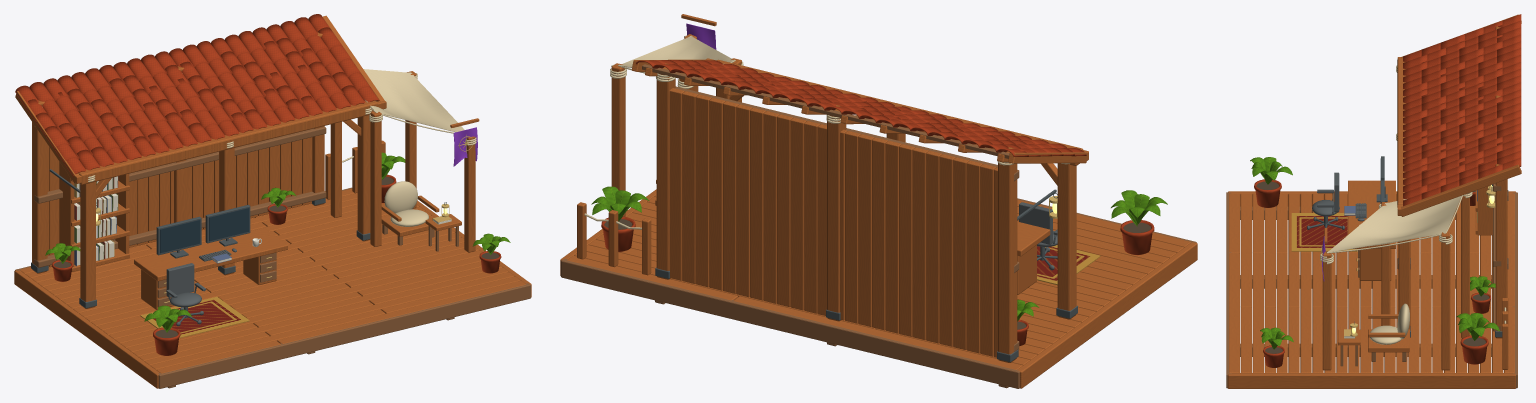
The model's file is studio-v1.glb.
3 views of the same model, side by side, from view 1: azimuth 30°, elevation 25°; view 2: azimuth 150°, elevation 25°; view 3: azimuth 270°, elevation 25° (orthographic). The views are drawn at different scales.
Parts seen in each view (by area): view 1: Studio_Deck_Fascia_-3.97, Studio_Front_Open_Eave_Beam, Studio_Veranda_Cream_Sagged_Awning, Studio_Desk_Crafted_Notebook_Worksurface, Studio_Deck_Side_Rim_-5.97, Studio_Shell_Post_0_3.6, Studio_Shell_Post_0_0.9, Studio_Backwall_Crafted_Crossbeam_2.3, Studio_Interior_Soft_Ornamental_Rug, Studio_Shell_Post_2_0.9, Studio_Deck_Plank_02_1, Studio_Veranda_Awning_Corner_Pillar_3 (+73 smaller); view 2: Studio_Deck_Fascia_3.97, Studio_Deck_Side_Rim_-5.97, Studio_Shell_Post_0_3.6, Studio_Shell_Post_0_0.9, Studio_Backwall_Weathered_Board_15, Studio_Backwall_Weathered_Board_06, Studio_Backwall_Weathered_Board_22, Studio_Backwall_Weathered_Board_02, Studio_Backwall_Weathered_Board_04, Studio_Shell_Post_2_3.6, Studio_Backwall_Weathered_Board_08, Studio_Backwall_Weathered_Board_07 (+42 smaller); view 3: Studio_Deck_Side_Rim_5.97, Studio_Veranda_Cream_Sagged_Awning, Studio_Interior_Soft_Ornamental_Rug, Studio_Shell_Post_2_3.6, Studio_Desk_Crafted_Notebook_Worksurface, Studio_Deck_Plank_06_1, Studio_Deck_Plank_16_1, Studio_Deck_Plank_02_1, Studio_Deck_Plank_01_0, Studio_Veranda_Awning_Corner_Pillar_1, Studio_Roof_Side_Carved_Fascia_4.01, Studio_Deck_Plank_00_1 (+58 smaller).
Boxes of the visible parts, x1,y1,x2,y2 form: Studio_Deck_Fascia_-3.97: [158, 283, 530, 388]; Studio_Front_Open_Eave_Beam: [78, 100, 377, 184]; Studio_Veranda_Cream_Sagged_Awning: [363, 69, 464, 132]; Studio_Desk_Crafted_Notebook_Worksurface: [134, 228, 287, 281]; Studio_Deck_Side_Rim_-5.97: [14, 270, 159, 388]; Studio_Shell_Post_0_3.6: [32, 100, 47, 273]; Studio_Shell_Post_0_0.9: [80, 182, 95, 308]; Studio_Backwall_Crafted_Crossbeam_2.3: [34, 126, 326, 203]; Studio_Interior_Soft_Ornamental_Rug: [140, 296, 249, 338]; Studio_Shell_Post_2_0.9: [357, 115, 370, 241]; Studio_Deck_Plank_02_1: [265, 272, 514, 335]; Studio_Veranda_Awning_Corner_Pillar_3: [370, 111, 381, 246]; Studio_Deck_Fascia_3.97: [561, 258, 1019, 388]; Studio_Deck_Side_Rim_-5.97: [1017, 242, 1197, 388]; Studio_Shell_Post_0_3.6: [998, 147, 1017, 362]; Studio_Shell_Post_0_0.9: [1057, 163, 1076, 319]; Studio_Backwall_Weathered_Board_15: [790, 117, 806, 310]; Studio_Backwall_Weathered_Board_06: [912, 147, 928, 339]; Studio_Backwall_Weathered_Board_22: [695, 94, 711, 287]; Studio_Backwall_Weathered_Board_02: [966, 160, 982, 353]; Studio_Backwall_Weathered_Board_04: [939, 154, 955, 346]; Studio_Shell_Post_2_3.6: [656, 63, 675, 279]; Studio_Backwall_Weathered_Board_08: [885, 140, 901, 333]; Studio_Backwall_Weathered_Board_07: [899, 144, 915, 336]; Studio_Deck_Side_Rim_5.97: [1228, 373, 1515, 388]; Studio_Veranda_Cream_Sagged_Awning: [1328, 195, 1461, 252]; Studio_Interior_Soft_Ornamental_Rug: [1291, 213, 1356, 251]; Studio_Shell_Post_2_3.6: [1495, 164, 1507, 338]; Studio_Desk_Crafted_Notebook_Worksurface: [1348, 180, 1395, 248]; Studio_Deck_Plank_06_1: [1300, 253, 1311, 372]; Studio_Deck_Plank_16_1: [1420, 253, 1431, 372]; Studio_Deck_Plank_02_1: [1252, 253, 1263, 372]; Studio_Deck_Plank_01_0: [1240, 193, 1251, 307]; Studio_Veranda_Awning_Corner_Pillar_1: [1441, 232, 1450, 370]; Studio_Roof_Side_Carved_Fascia_4.01: [1400, 164, 1521, 216]; Studio_Deck_Plank_00_1: [1229, 253, 1239, 372].
Bounding box in the file's own units: 12.1 × 6.14 × 8.21.
Materials: 19 (5 with a texture image).
